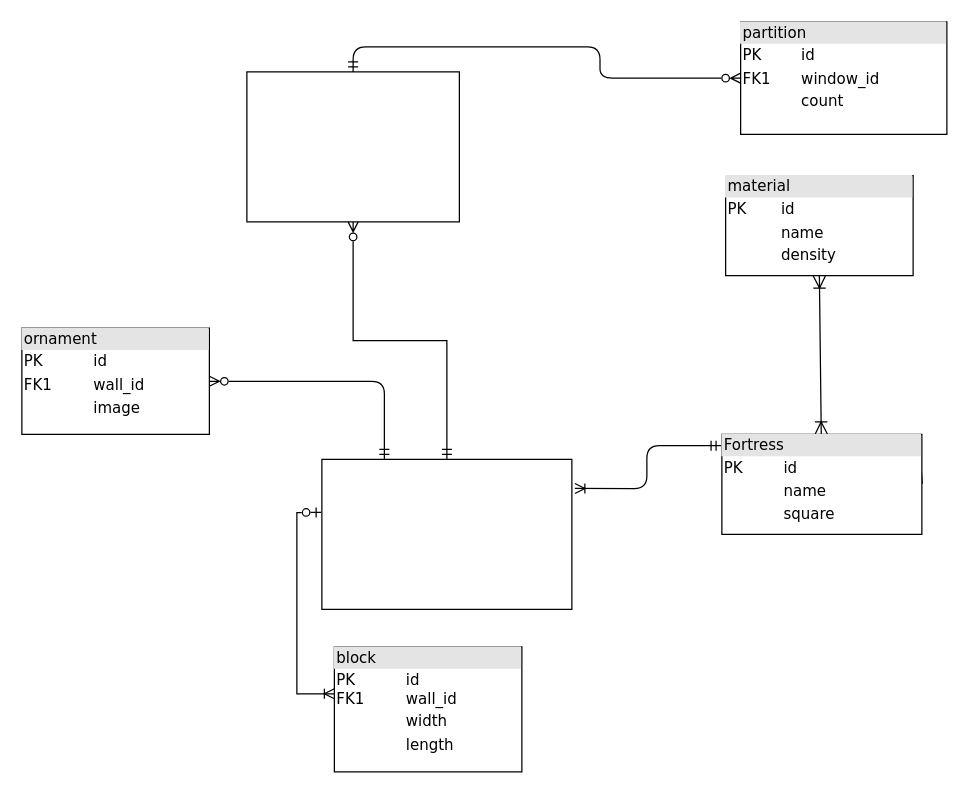
This 969x794 diagram has some shape labels left out. The shapes that lost their labels are listed below. From the top down, each one's centre as x and y in pixels, then its label:
At (x=352, y=146): "window PK FK1 id wall_id length width has_partition".
At (x=446, y=533): "wall PK id FK1 fortress_id height length depth".
